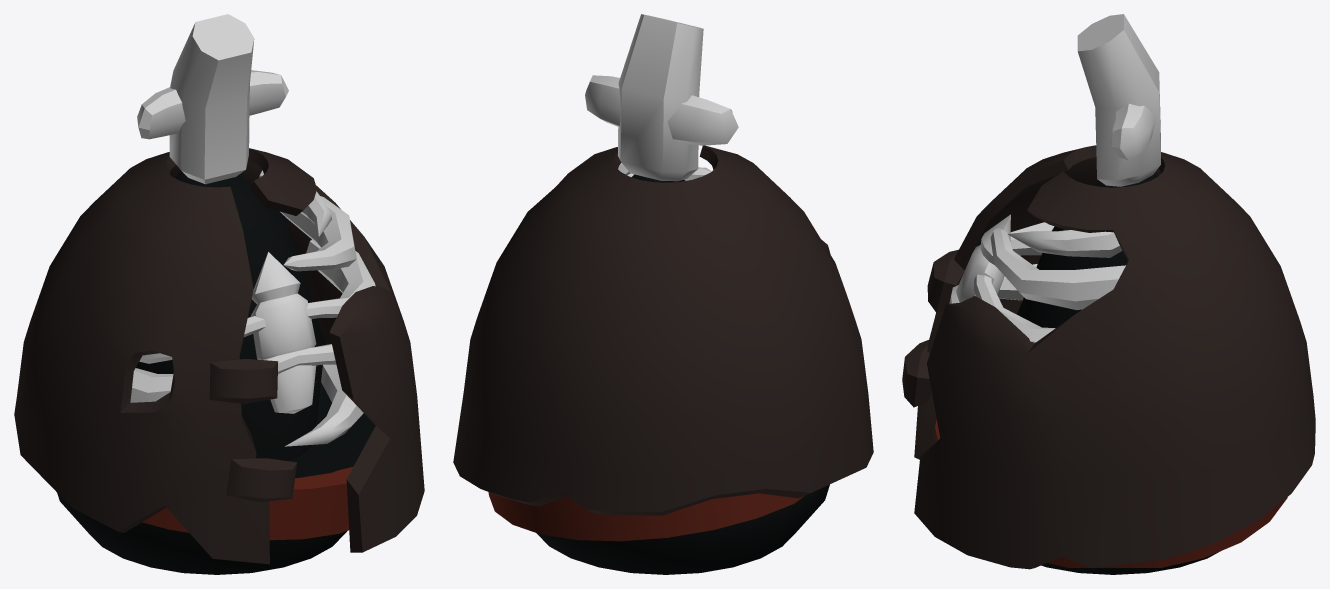
The model's file is body_mage.fbx.
The picture shows the model from 3 angles, left to right: view 1: azimuth 30°, elevation 25°; view 2: azimuth 150°, elevation 25°; view 3: azimuth 270°, elevation 25°; orthographic projection.
Visible parts, largest first — view 1: body_mage; view 2: body_mage; view 3: body_mage.
Part boxes in pixels (bbox=[...]): body_mage: bbox=[14, 14, 424, 574]; body_mage: bbox=[453, 14, 873, 574]; body_mage: bbox=[902, 14, 1315, 574].
Size of the model in its own units: 74.69 by 102 by 77.02.
